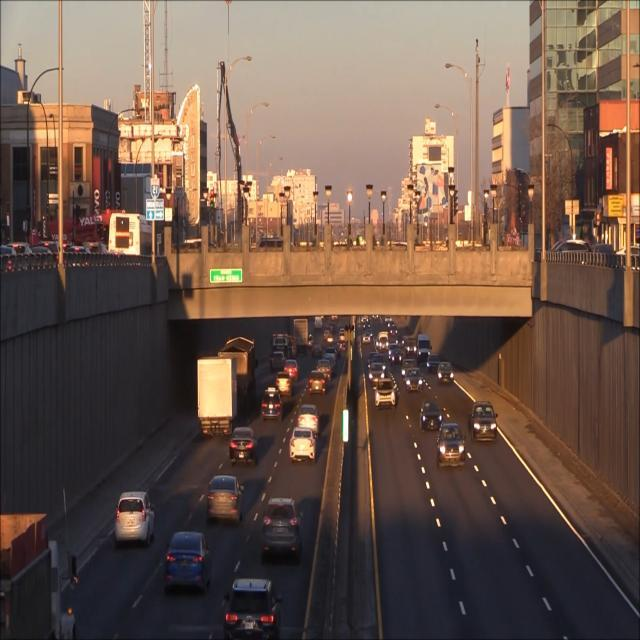Car: (221, 577, 282, 639), (163, 530, 211, 593), (258, 496, 302, 558), (113, 490, 155, 546), (205, 474, 244, 522), (228, 426, 257, 465)
